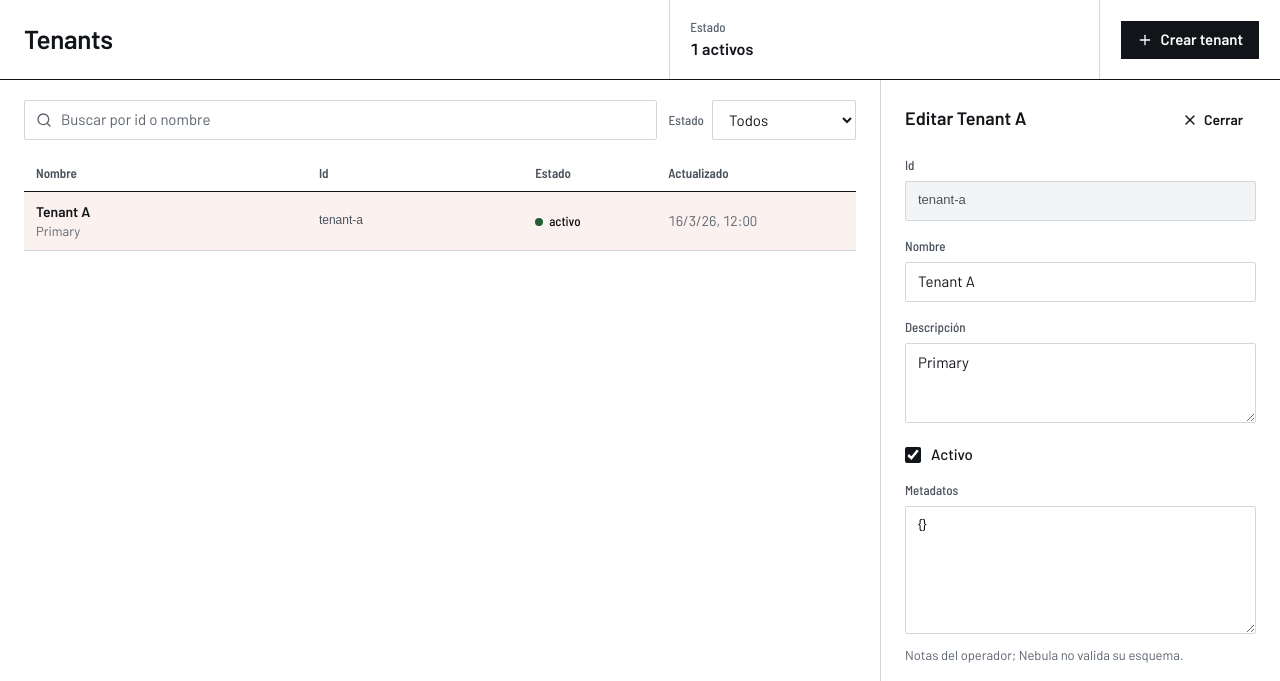
tenants page › closes a drawer opened to create a tenant without leaving an empty editor behind
Expected: the heading "Editar Tenant A" is shown, 905,104 -> 1026,132
Click the button "Crear tenant".
click(1190, 40)  # box 1120,20 -> 1260,60
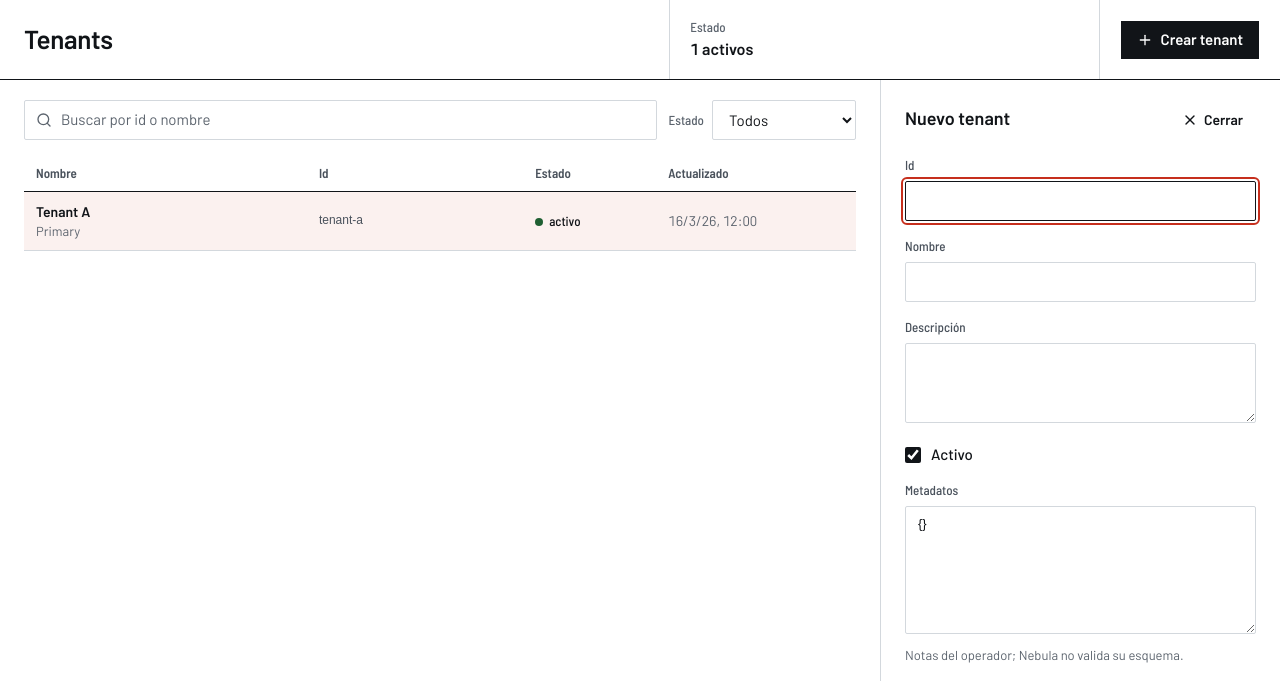
Expected: the heading "Nuevo tenant" is shown, 905,104 -> 1010,132
Click the button "Cerrar".
click(1212, 120)  # box 1169,104 -> 1256,136
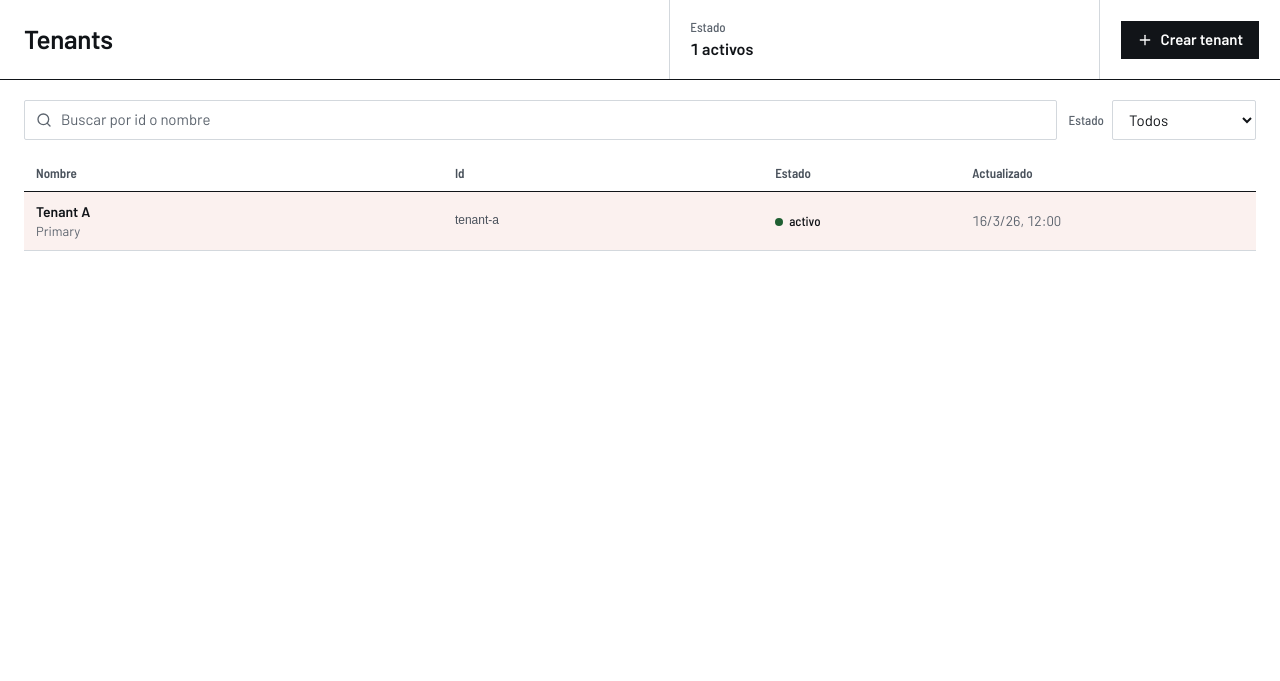
Expected: the heading "Editar Tenant" is not shown
Expected: the heading "Nuevo tenant" is gone
